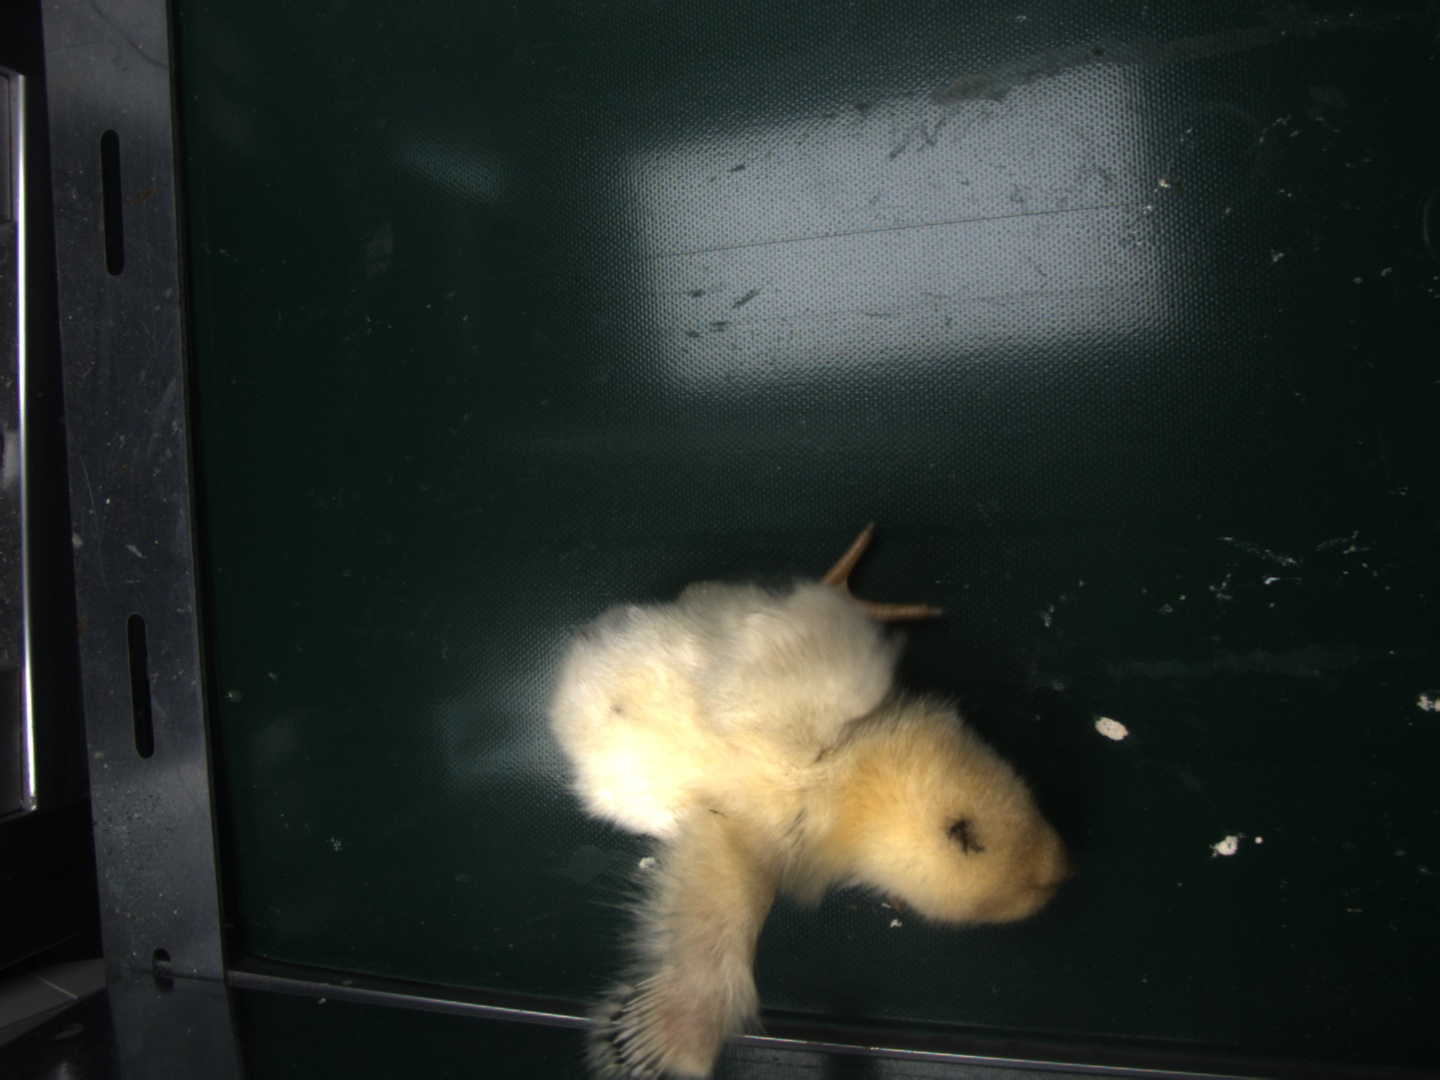male: (615, 977, 679, 1080)
